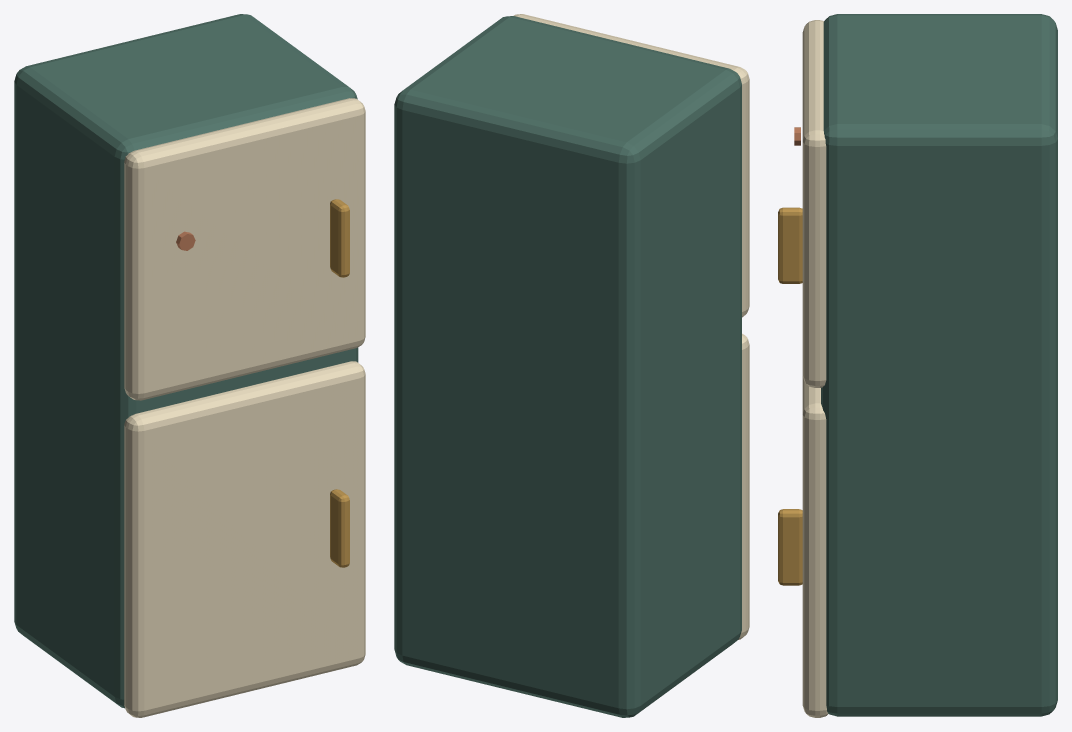
The model's file is SM_CH_Story_Fridge.fbx.
The picture shows the model from 3 angles, left to right: view 1: azimuth 30°, elevation 25°; view 2: azimuth 150°, elevation 25°; view 3: azimuth 270°, elevation 25°; orthographic projection. The views are drawn at different scales.
Visible parts, largest first — view 1: SM_CH_Story_Fridge; view 2: SM_CH_Story_Fridge; view 3: SM_CH_Story_Fridge.
Boxes of the visible parts, x1=… form: SM_CH_Story_Fridge: x1=14, y1=14, x2=365, y2=717; SM_CH_Story_Fridge: x1=394, y1=14, x2=749, y2=717; SM_CH_Story_Fridge: x1=778, y1=14, x2=1057, y2=717.
Size of the model in its own units: 8800 by 8500 by 19850.
